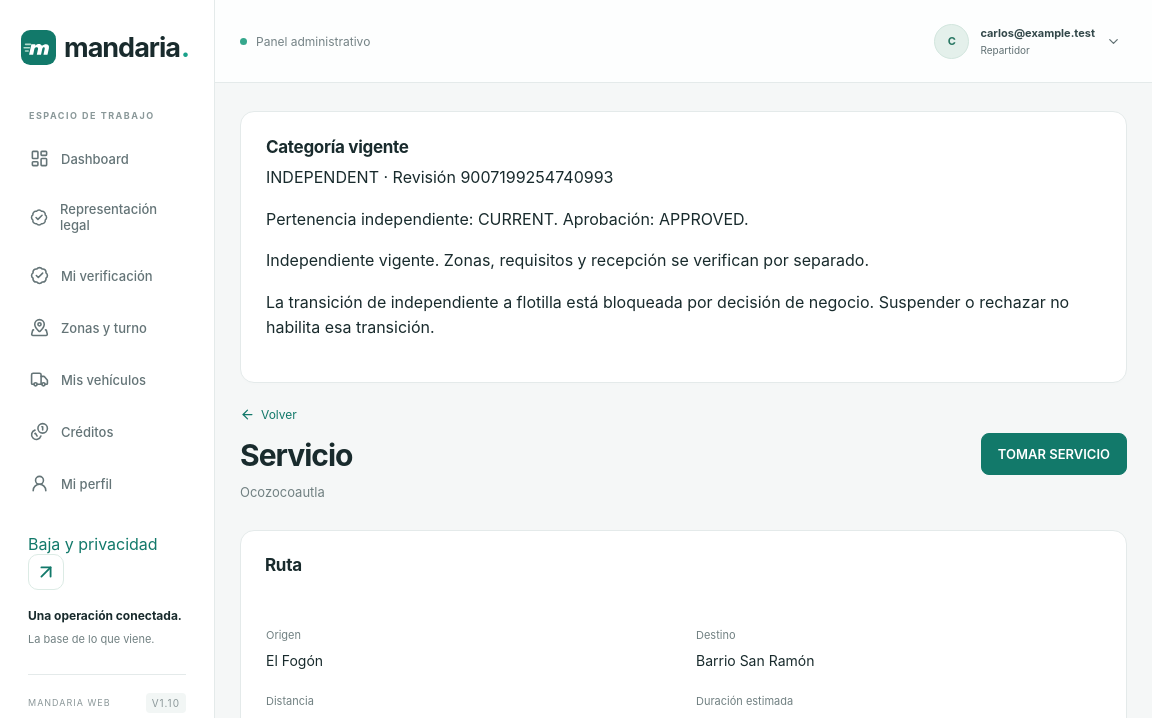
Scenario: take › refuses to confirm without a vehicle
This screenshot has width=1152, height=718.
Click the button "TOMAR SERVICIO".
click(1054, 454)  # box [981,433,1127,475]
(page scrolled)
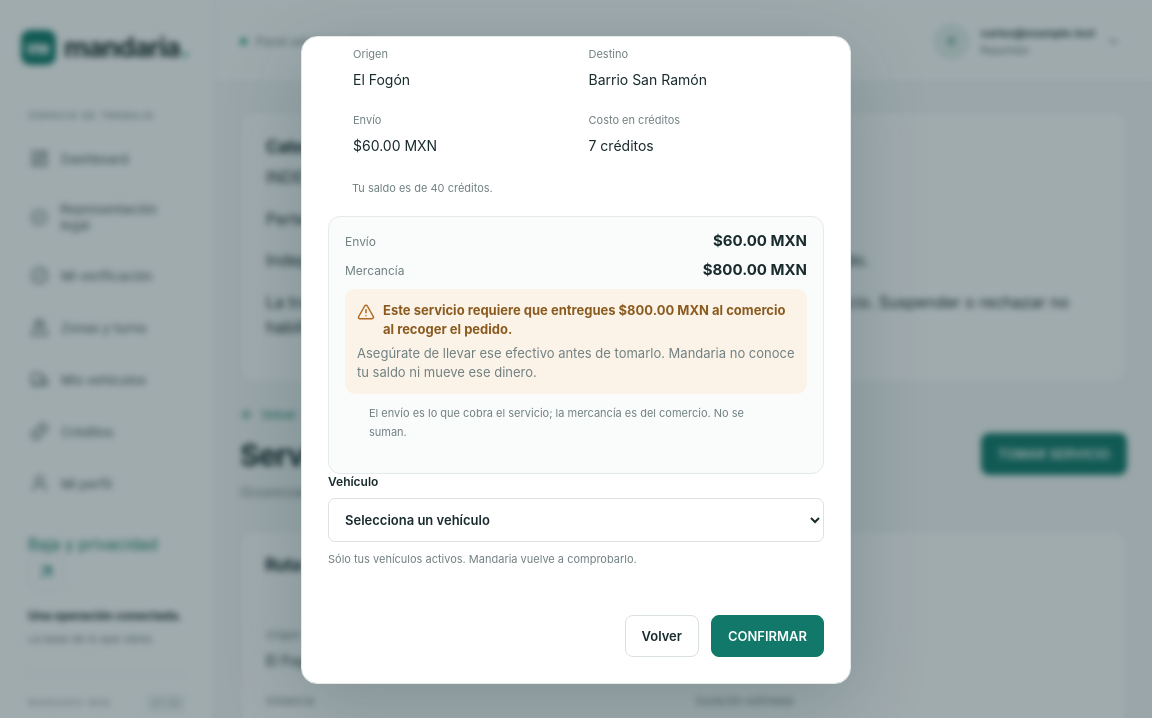
Click the button "CONFIRMAR".
click(767, 636)  # box [711,615,824,657]
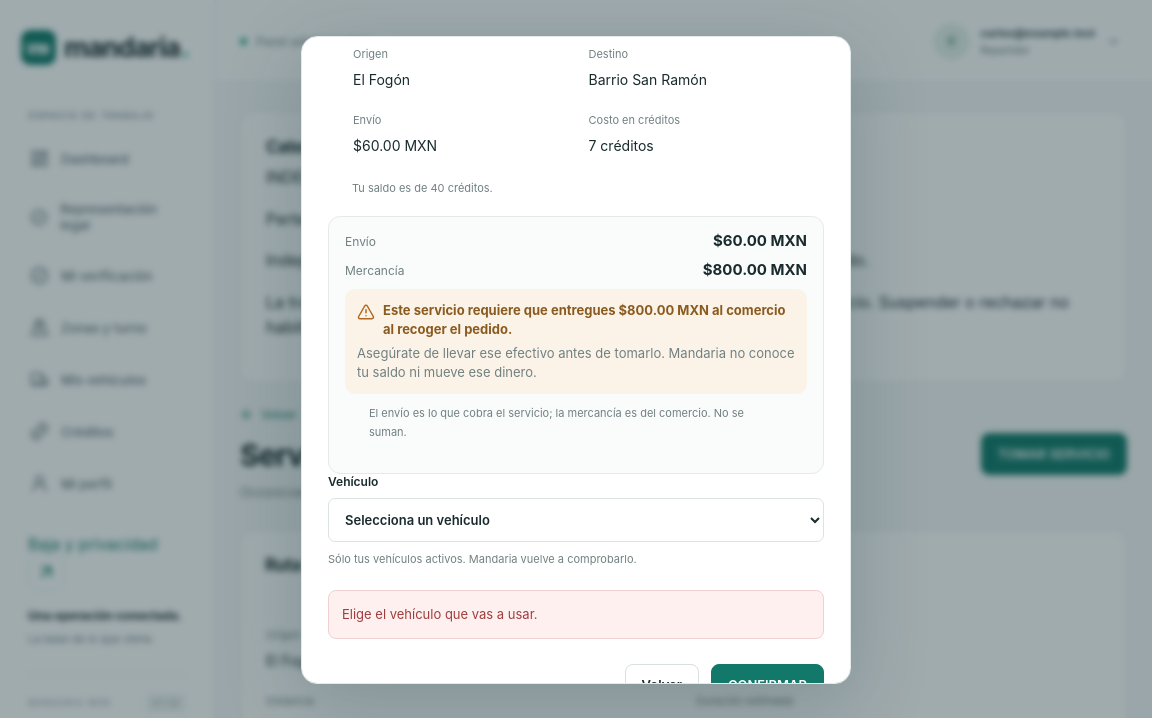
Expected: the message reads "Elige el vehículo que vas a usar.", [342,606,538,622]
